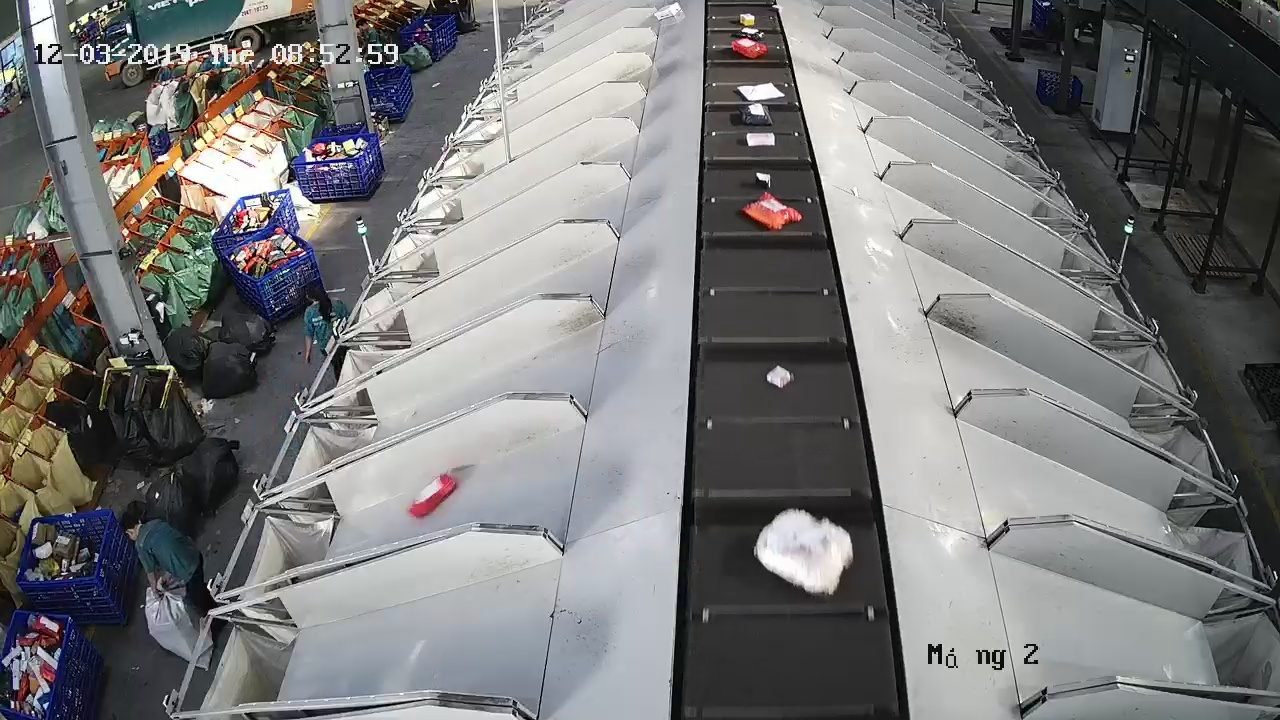parcel: (751, 506, 856, 598), (738, 191, 804, 233), (406, 471, 458, 520), (737, 102, 775, 126), (765, 362, 795, 391), (744, 131, 777, 148), (753, 170, 772, 190)
